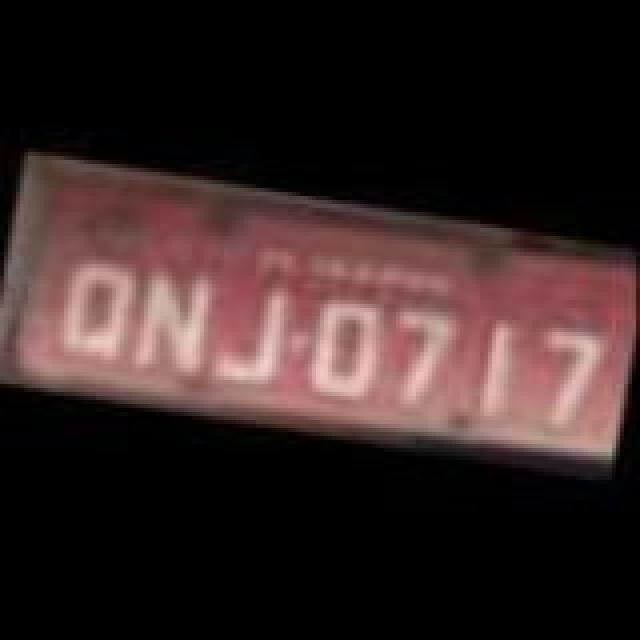1: (456, 310, 524, 422)
7: (520, 322, 616, 442), (370, 304, 458, 420)
J: (206, 282, 294, 390)
N: (128, 260, 220, 380)
O: (298, 292, 386, 404)
Q: (56, 254, 140, 366)
